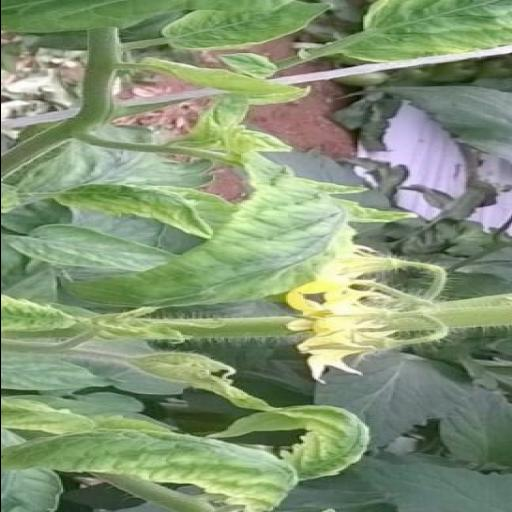Yellow Leaf Curl Virus: (57, 176, 346, 310), (8, 426, 302, 504), (334, 0, 512, 64), (44, 182, 218, 238)
